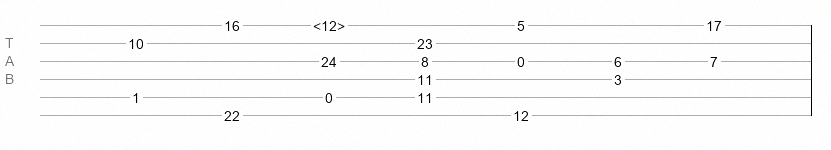0: (325, 90, 333, 100), (517, 54, 525, 64)
1: (132, 90, 140, 100)
10: (128, 36, 144, 46)
11: (417, 90, 433, 100), (417, 72, 433, 82)
12: (513, 108, 529, 118)
16: (224, 18, 240, 28)
17: (706, 18, 722, 28)
22: (224, 108, 240, 118)
23: (417, 36, 433, 46)
24: (321, 54, 337, 64)
3: (614, 72, 622, 82)
5: (517, 18, 525, 28)
6: (614, 54, 622, 64)
7: (710, 54, 718, 64)
8: (421, 54, 429, 64)
harmonic: (313, 18, 345, 28)
